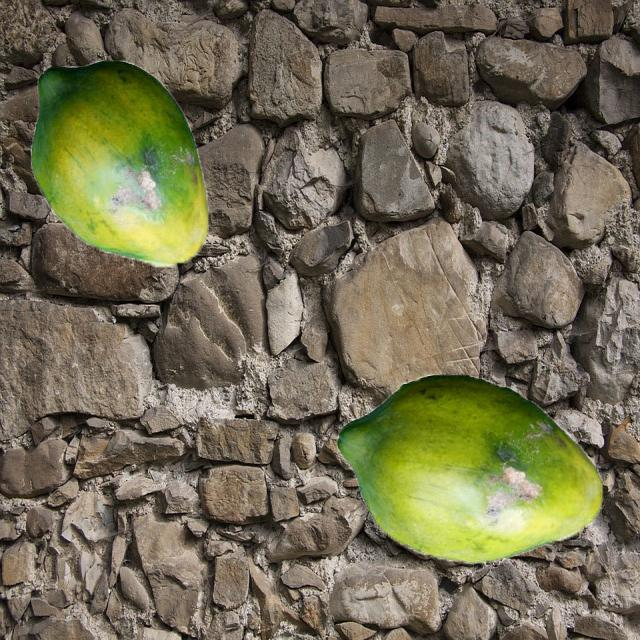Pepaya rippen: (331, 369, 616, 576), (20, 55, 220, 287)
